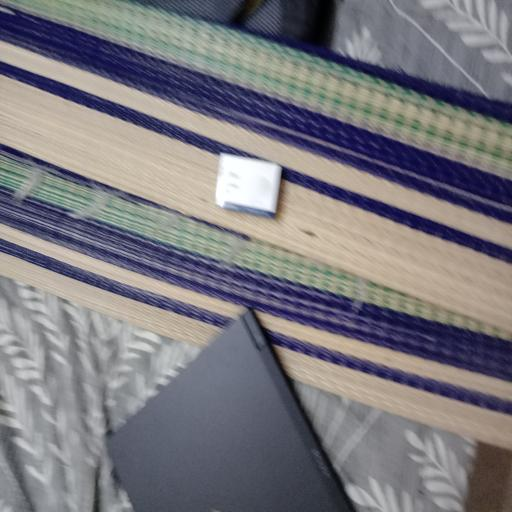Dove`1: (210, 152, 290, 222)
